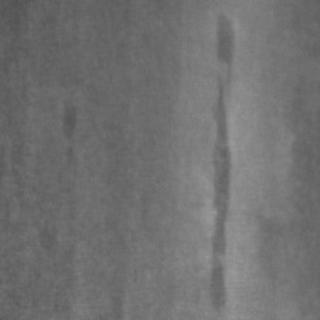inclusion: (264, 118, 316, 312), (199, 69, 237, 315), (207, 12, 240, 102), (53, 99, 81, 179)
